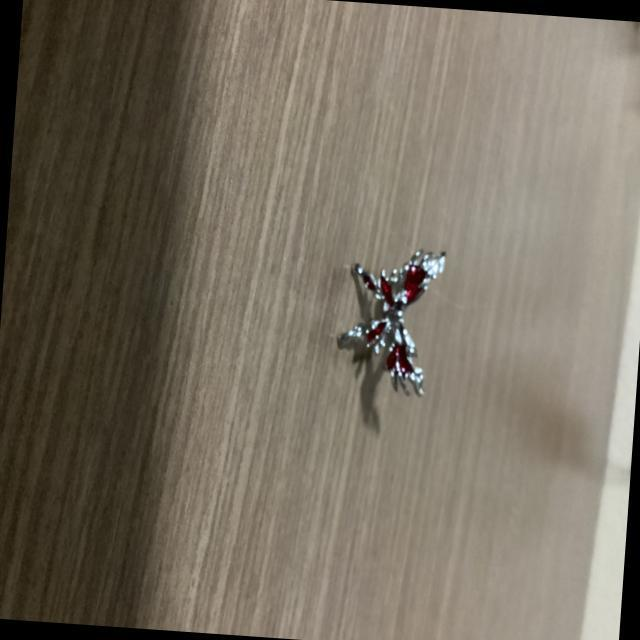Ring: (333, 245, 449, 400)
